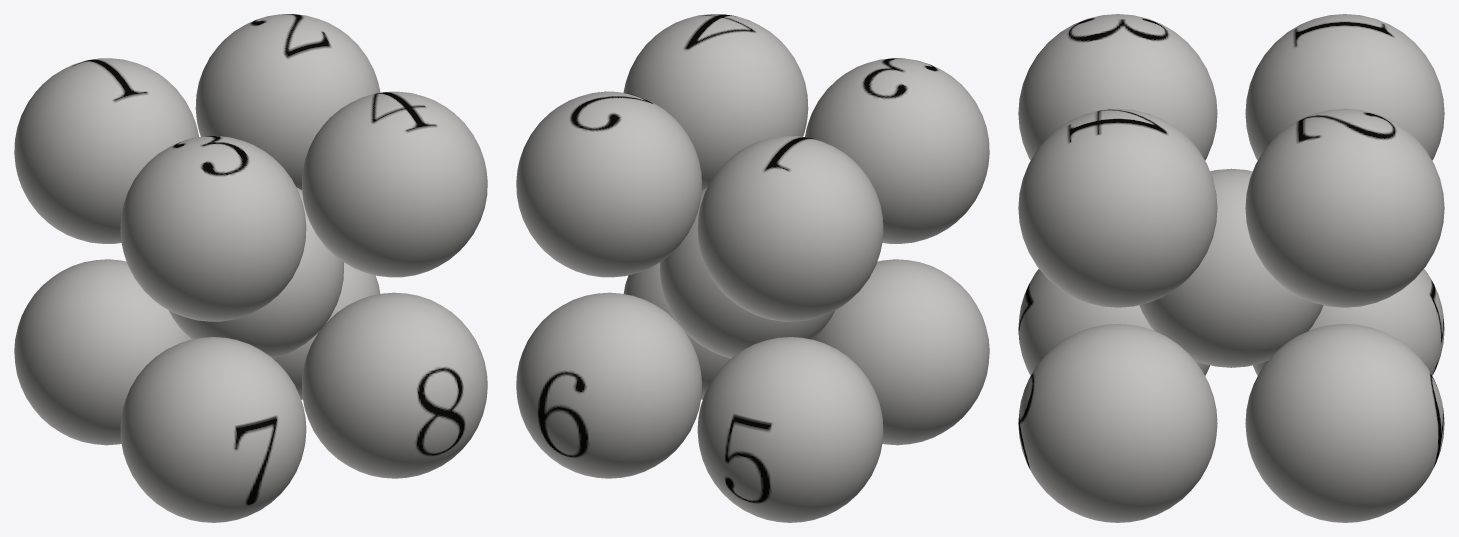
Rendered from tixin5_2.FBX.
The picture shows the model from 3 angles, left to right: view 1: azimuth 30°, elevation 25°; view 2: azimuth 150°, elevation 25°; view 3: azimuth 270°, elevation 25°; orthographic projection. The views are drawn at different scales.
Parts seen in each view (by area): view 1: 对象215; view 2: 对象215; view 3: 对象215.
Part boxes in pixels (x1,y1,x2,y2): 对象215: (14, 14, 487, 522); 对象215: (516, 14, 989, 522); 对象215: (1018, 14, 1444, 522).
Size of the model in its own units: 85.01 by 87.69 by 85.61.
